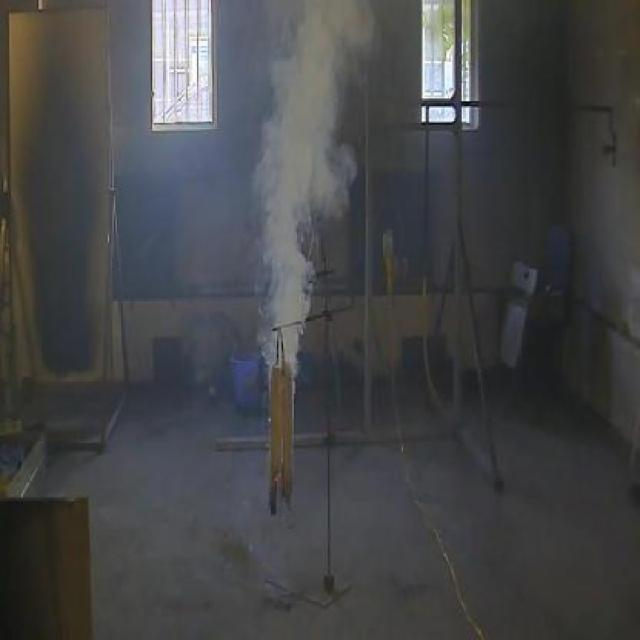fire: (245, 0, 386, 311)
